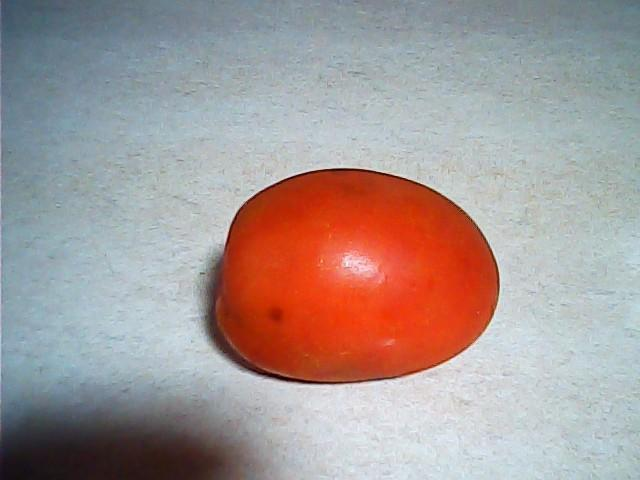maduro: (214, 156, 505, 386)
